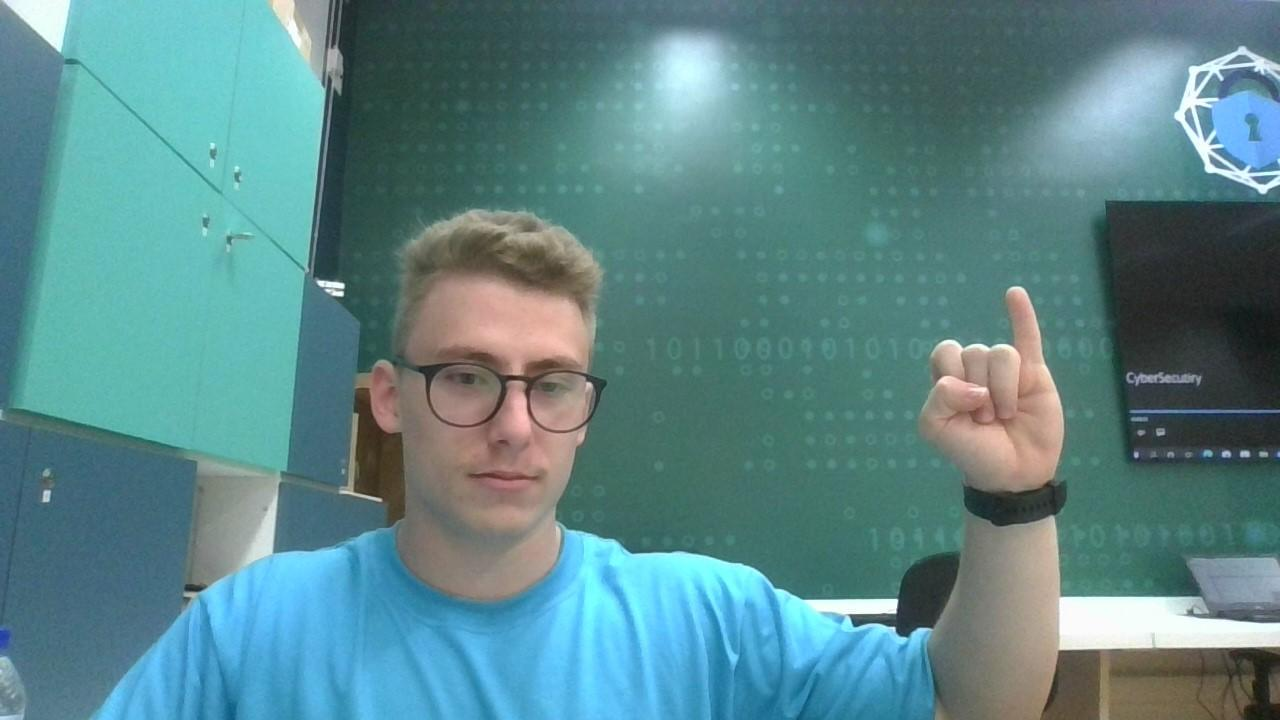I: (895, 262, 1085, 492)
